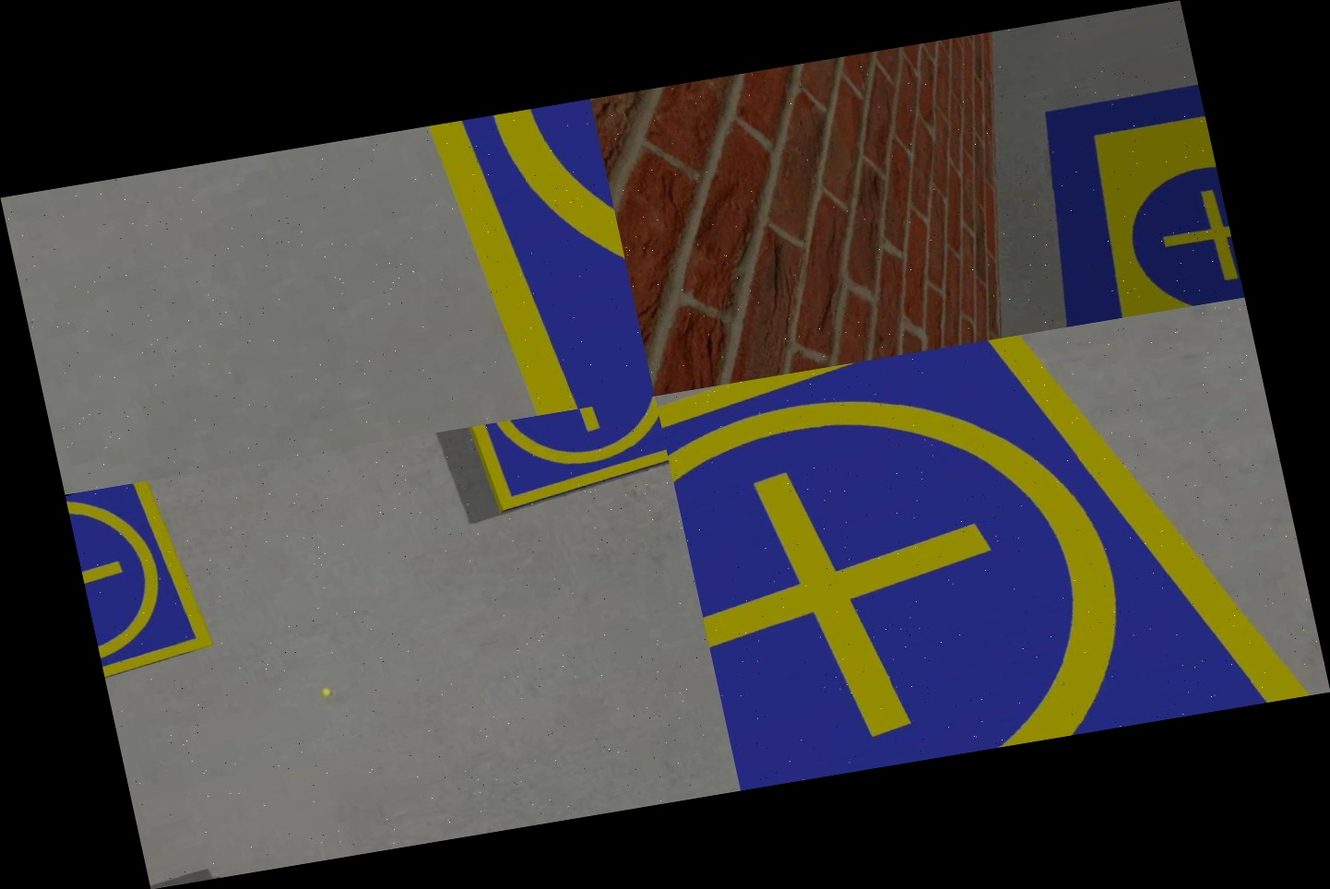large_base: (949, 51, 1244, 338)
small_base: (655, 297, 1330, 789), (395, 99, 655, 429), (65, 476, 220, 693), (464, 396, 674, 516)
